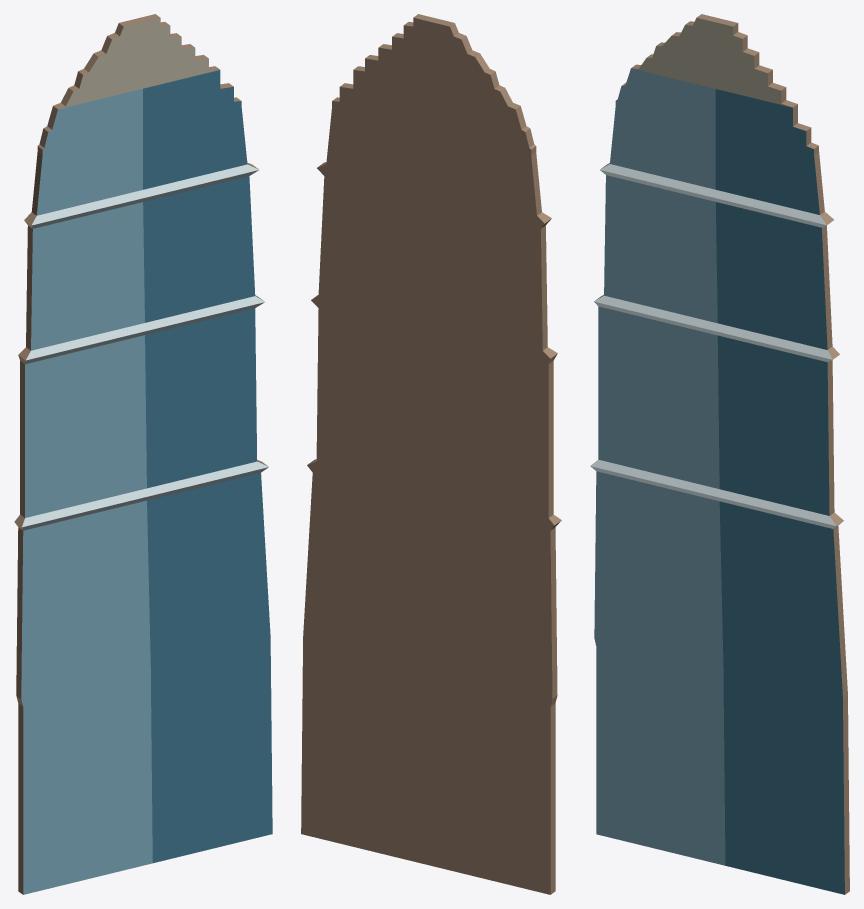
The model's file is light.glb.
The picture shows the model from 3 angles, left to right: view 1: azimuth 30°, elevation 25°; view 2: azimuth 150°, elevation 25°; view 3: azimuth 330°, elevation 25°; orthographic projection.
Visible parts, largest first — view 1: 2025_published_visible_silhouette_NOT_whole_tower; view 2: 2025_published_visible_silhouette_NOT_whole_tower; view 3: 2025_published_visible_silhouette_NOT_whole_tower.
Boxes of the visible parts, box(x1,y1,x2,y2) form: 2025_published_visible_silhouette_NOT_whole_tower: box(14, 14, 272, 894); 2025_published_visible_silhouette_NOT_whole_tower: box(301, 14, 561, 894); 2025_published_visible_silhouette_NOT_whole_tower: box(590, 14, 849, 894).
Size of the model in its own units: 1.31 by 4.17 by 0.0669.
